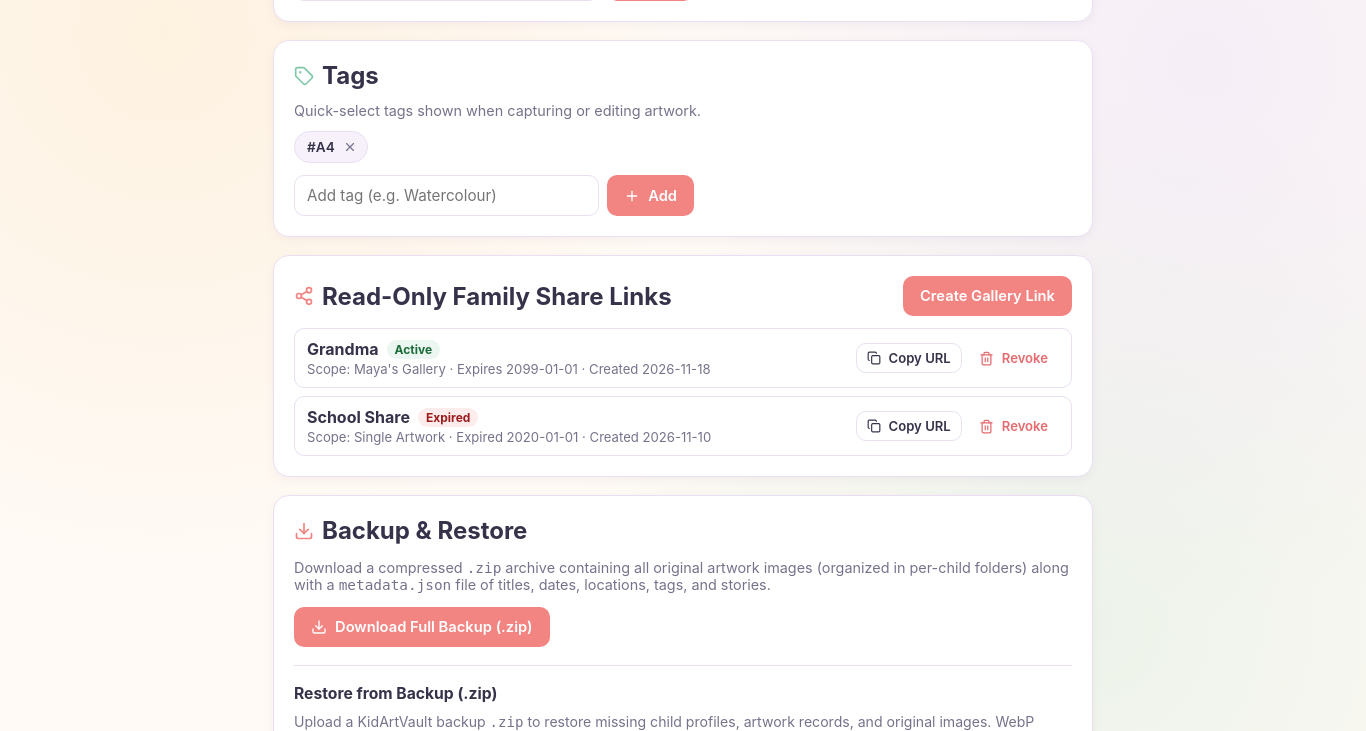
it: OptionsPage shares management › lists current shares with scope/status and revokes a share on confirmation
(page scrolled)
Check: the text "Grandma" is shown, box 307,339 -> 378,359
Check: the text "Maya's Gallery" is shown, box 354,361 -> 446,377
What coordinates should you click on to do the following:
click the button "Revoke" in the row of "· Created 2026-11-18"
I would click on:
 (1013, 358)
Its box is 968,343 -> 1059,373.
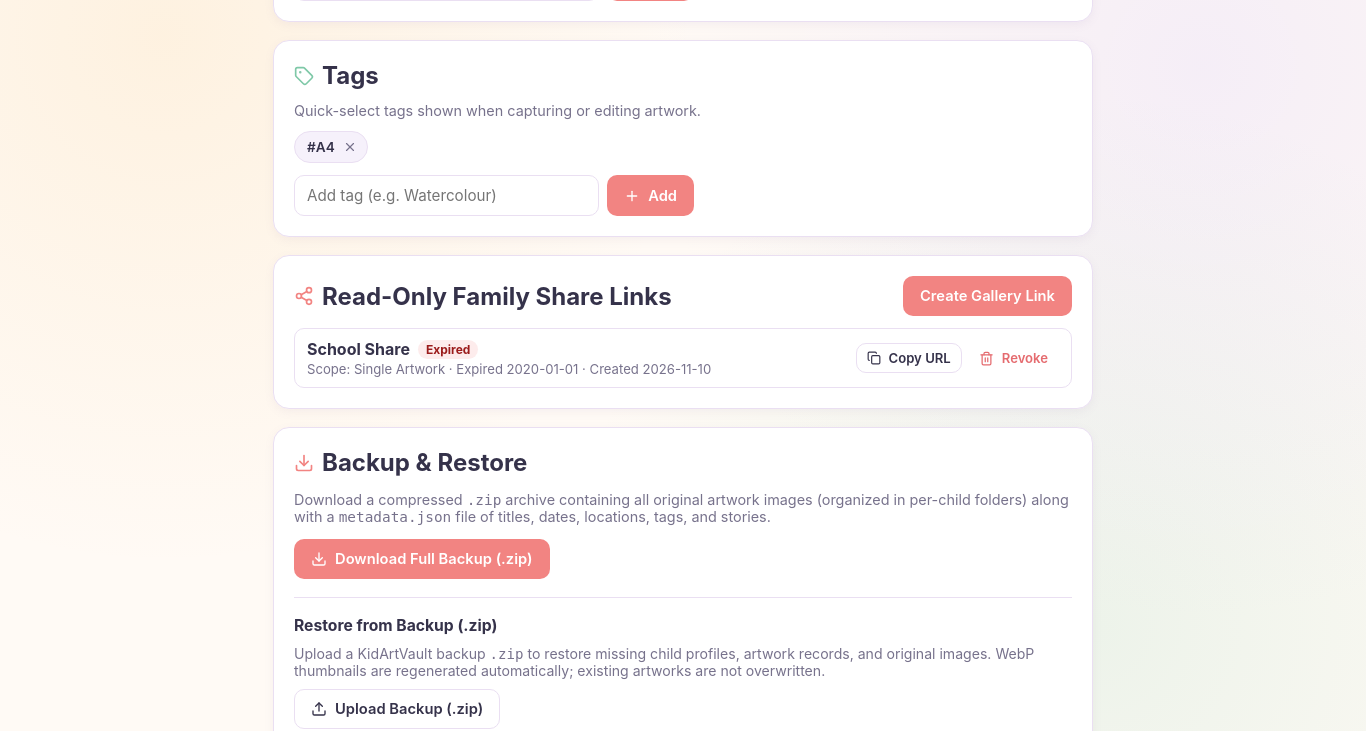
Check: the text "School Share" is shown, box 307,339 -> 410,359
Check: the text "Grandma" is gone
